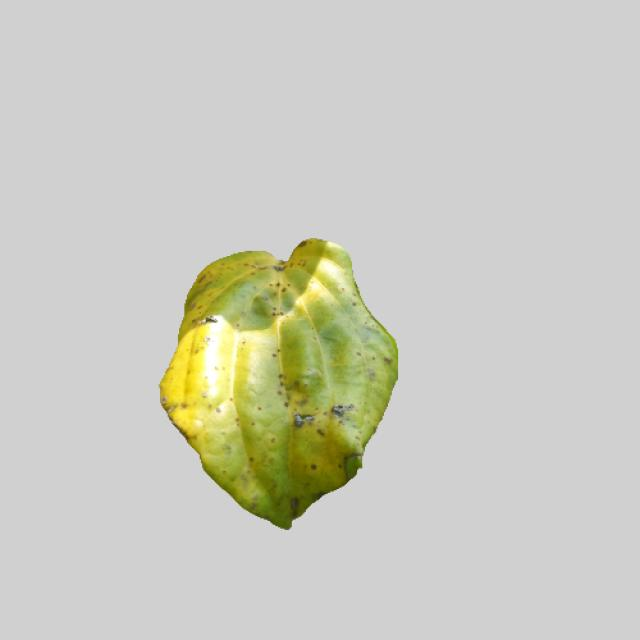yellow-mottle-virus: (146, 232, 399, 526)
